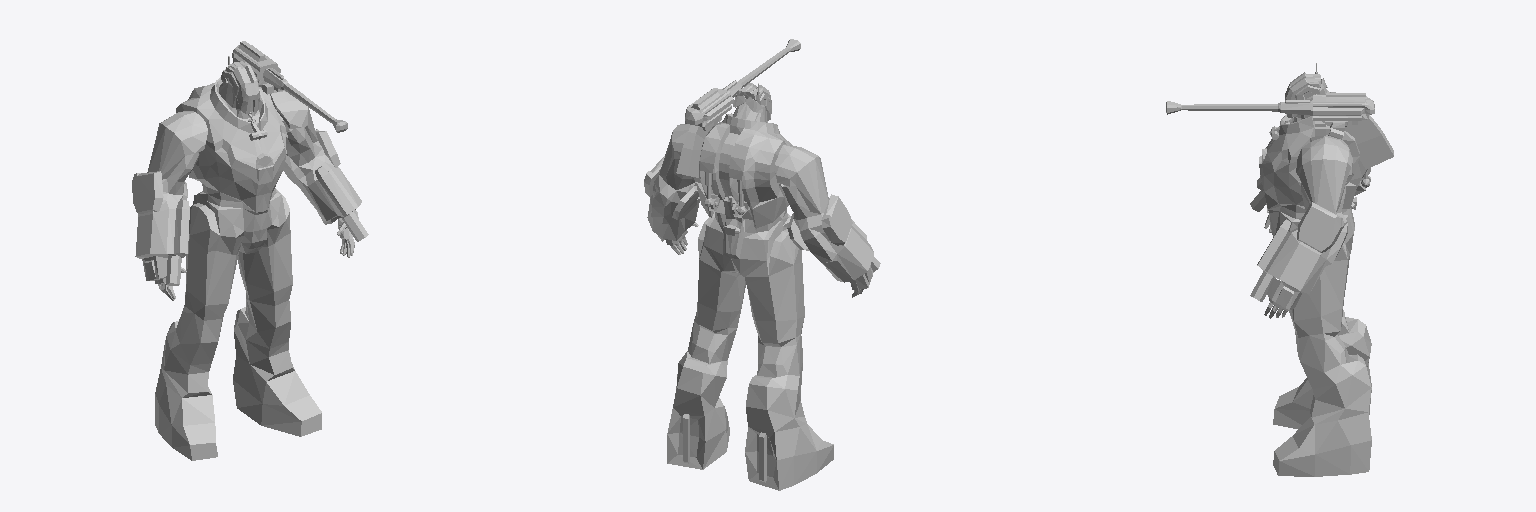
The model's file is hammer.obj.
The picture shows the model from 3 angles: view 1: azimuth 30°, elevation 25°; view 2: azimuth 150°, elevation 25°; view 3: azimuth 270°, elevation 25°; orthographic projection.
Visible parts, largest first — view 1: a; view 2: a; view 3: a.
Part boxes in pixels (x1,y1,x2,y2): a: (132,41,368,460); a: (644,39,880,490); a: (1166,63,1393,476).
Size of the model in its own units: 1.12 by 1.83 by 1.01.